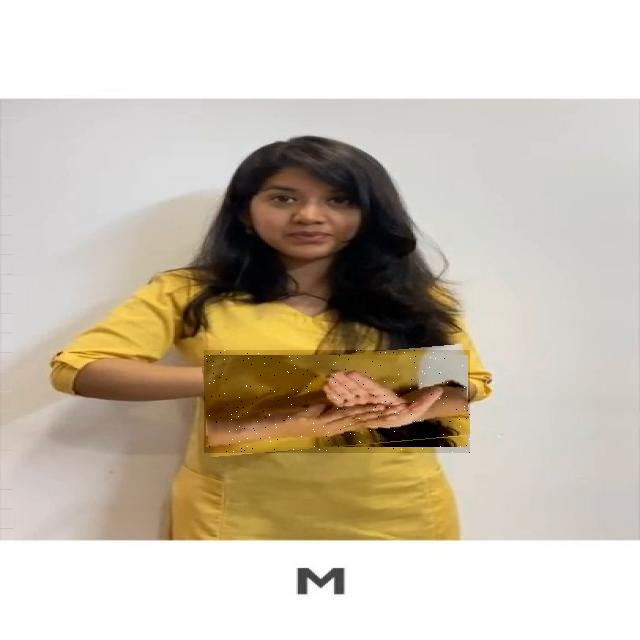M: (204, 350, 470, 453)
